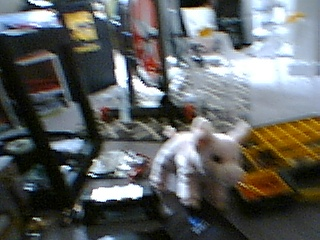piggy: (148, 115, 252, 212)
